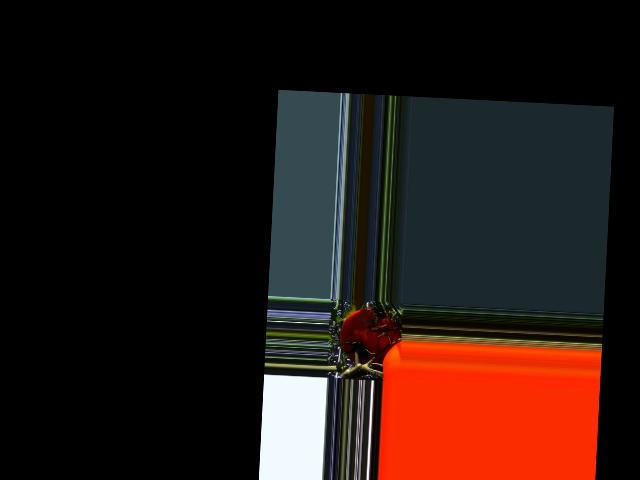tomato: (338, 306, 402, 366)
